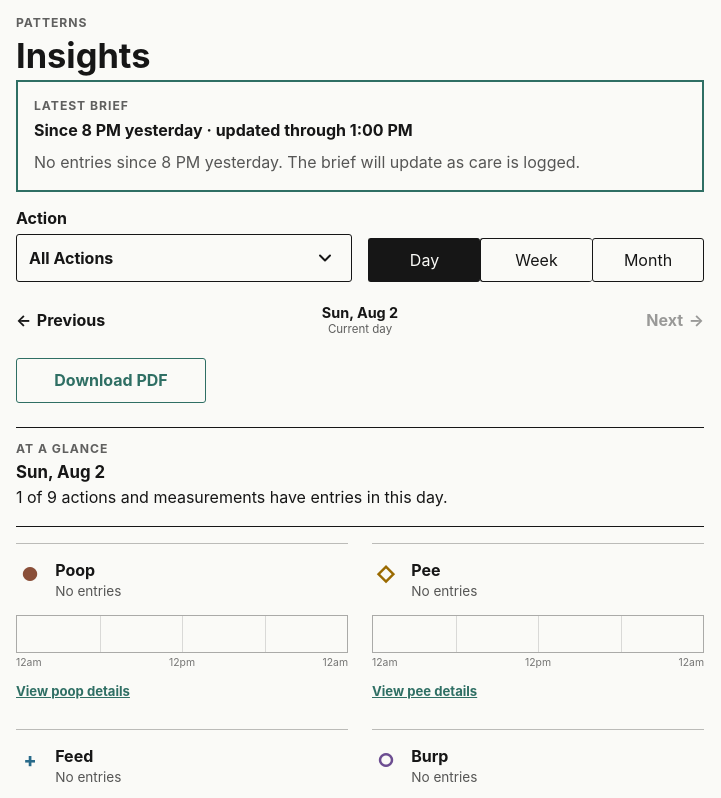
Test: Insights screen › shows Weight as a dated measurement trend instead of an event count
Select "Weight" in the dropdown labelled "Action" at (184, 258), box [16,234,352,282]
(page scrolled)
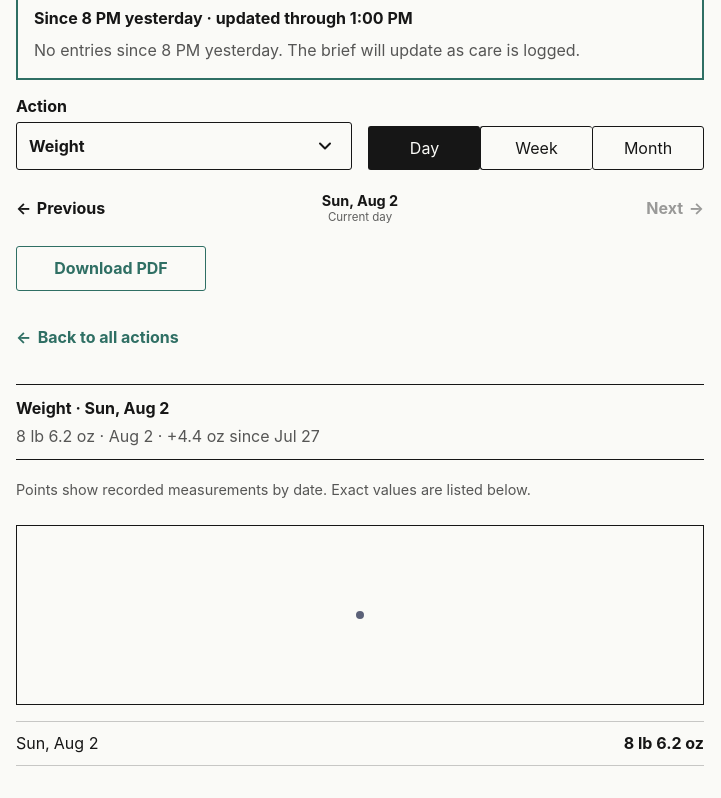
Result: the element with class "metric-summary" shows "8 lb 6.2 oz" at [16,426,320,446]
Result: the element with class "metric-summary" shows "+4.4 oz since Jul 27" at [16,426,320,446]
Result: the list with class "chart-detail-list" shows "Aug 2" at [16,733,99,753]
